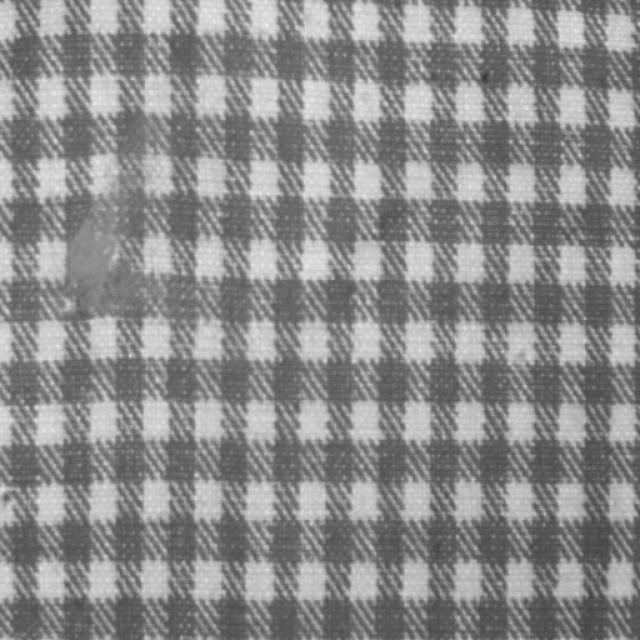Stain-Defect: (65, 216, 141, 315)
